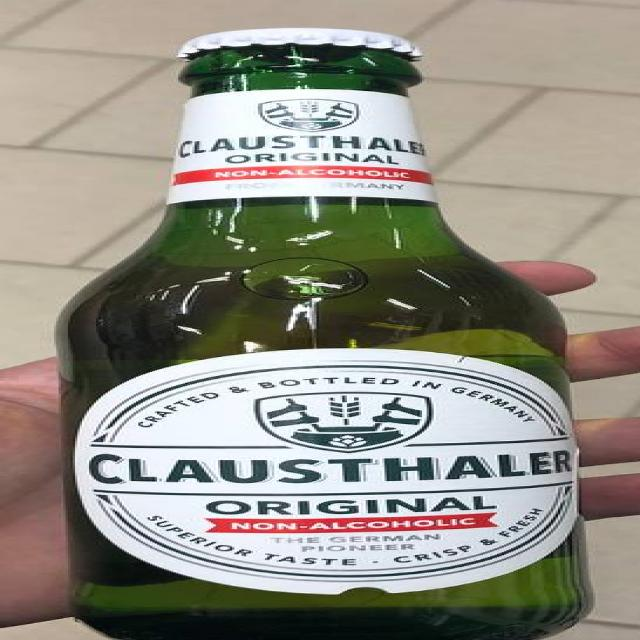Clausthaler Original Non-Alcoholic: (2, 0, 640, 640)
